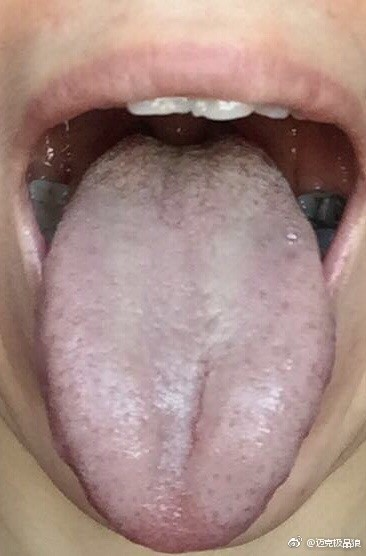baitaishe: (40, 133, 337, 554)
liewenshe: (180, 369, 210, 464)
shenquao: (137, 134, 237, 164)
